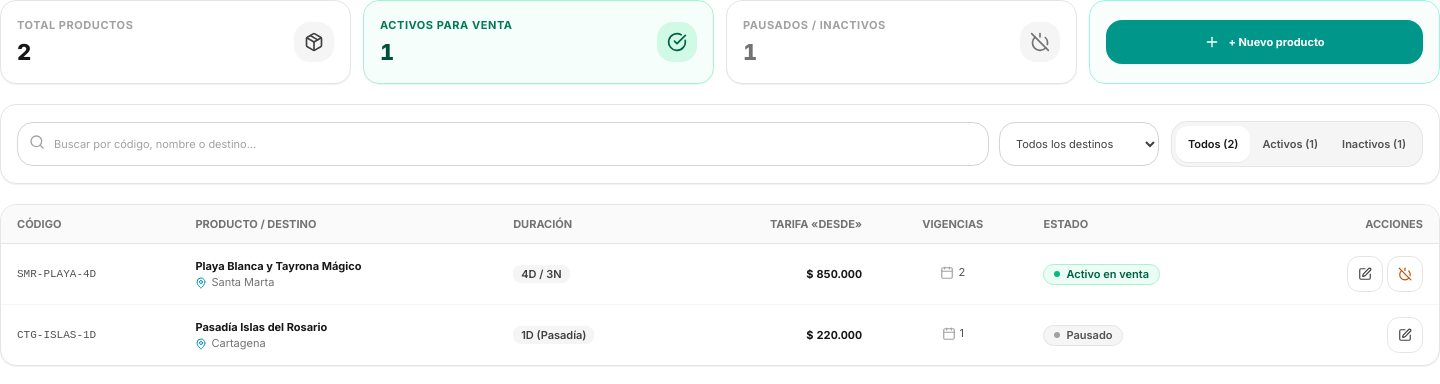
Scenario: TablaGestionCatalogo (T-031) › filtra por pestañas de estado (Activos / Inactivos)
The width and height of the screenshot is (1440, 384).
# Clic en pestaña Activos
Click the button with test id "tab-estado-activos".
click(1290, 144)  # box [1250,126,1330,162]
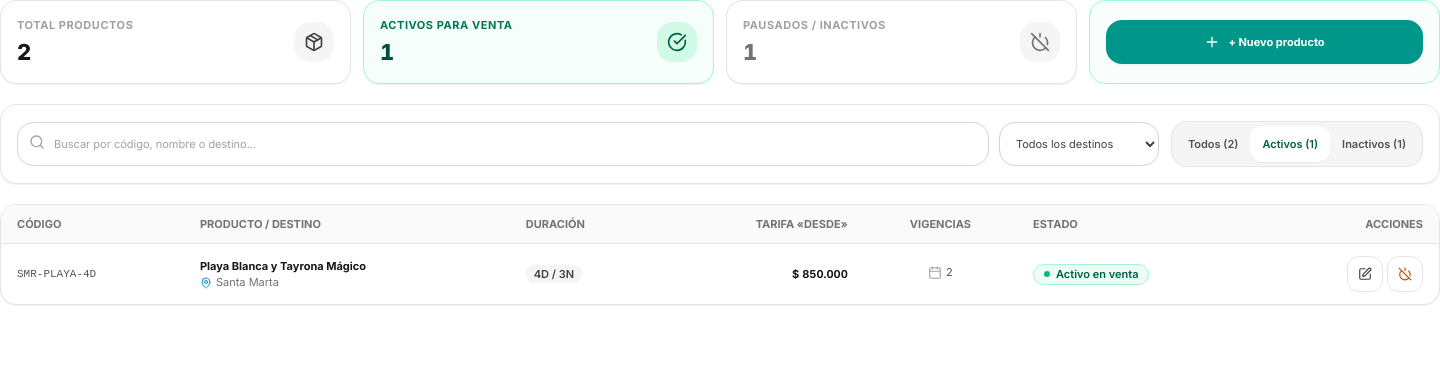
Expected: the text "Playa Blanca y Tayrona Mágico" is shown, [200,259,366,273]
Result: the text "Pasadía Islas del Rosario" is gone
# Clic en pestaña Inactivos
Click the button with test id "tab-estado-inactivos".
click(1374, 144)  # box [1330,126,1418,162]
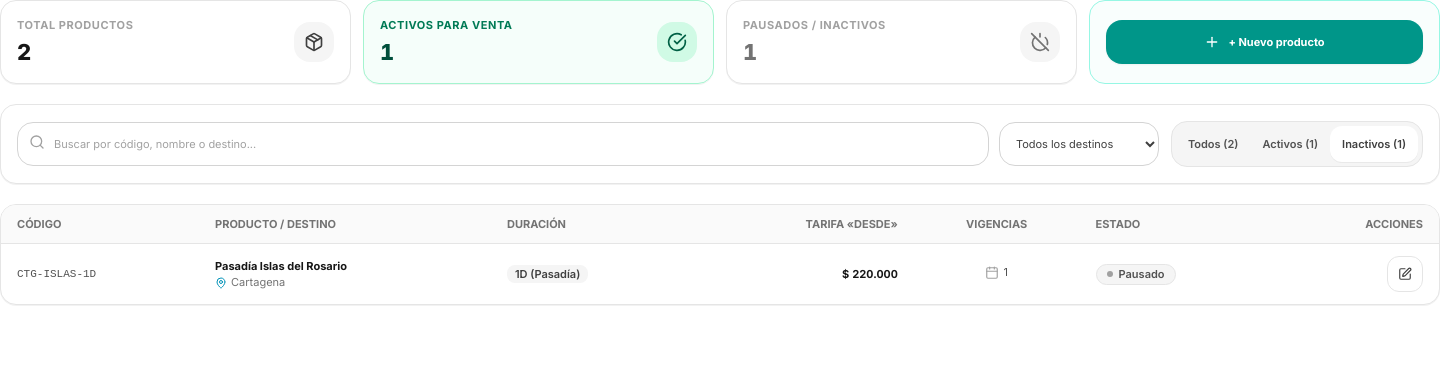
Result: the text "Playa Blanca y Tayrona Mágico" is gone
Result: the text "Pasadía Islas del Rosario" is shown at [215,259,347,273]
